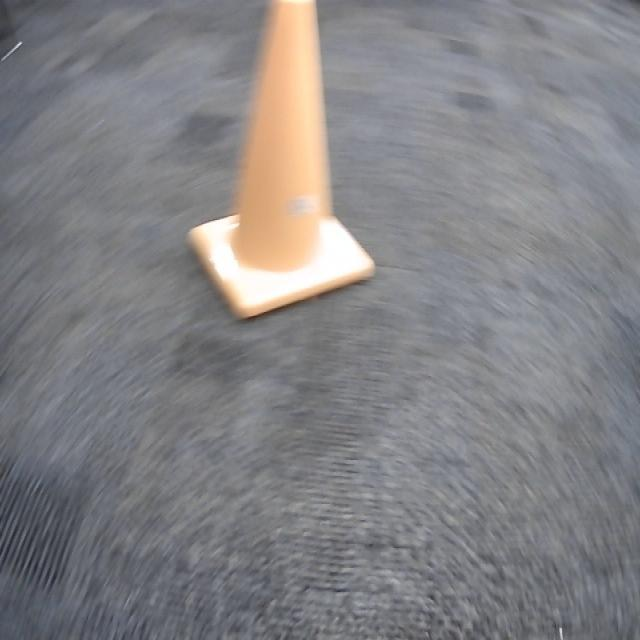cone: (182, 0, 377, 325)
